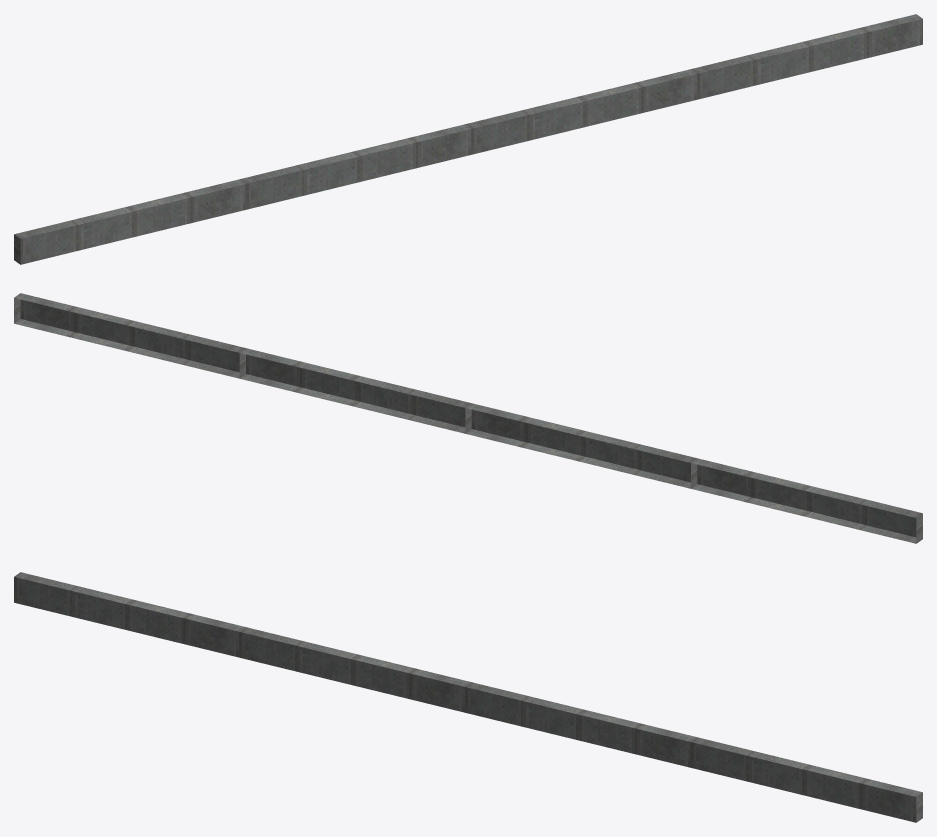
The model's file is wall_cladding_8m_narrow_01.gltf.
3 renders of one model, top to bottom at view 1: azimuth 30°, elevation 25°; view 2: azimuth 150°, elevation 25°; view 3: azimuth 330°, elevation 25°, orthographic.
Visible parts, largest first — view 1: wall_cladding_8m_narrow_01; view 2: wall_cladding_8m_narrow_01; view 3: wall_cladding_8m_narrow_01.
Boxes of the visible parts, box(x1,y1,x2,y2) form: wall_cladding_8m_narrow_01: box(14, 14, 922, 264); wall_cladding_8m_narrow_01: box(14, 293, 922, 543); wall_cladding_8m_narrow_01: box(14, 572, 922, 822).
Bounding box in the file's own units: 8 × 0.2188 × 0.1.
Materials: 1 (1 with a texture image).
